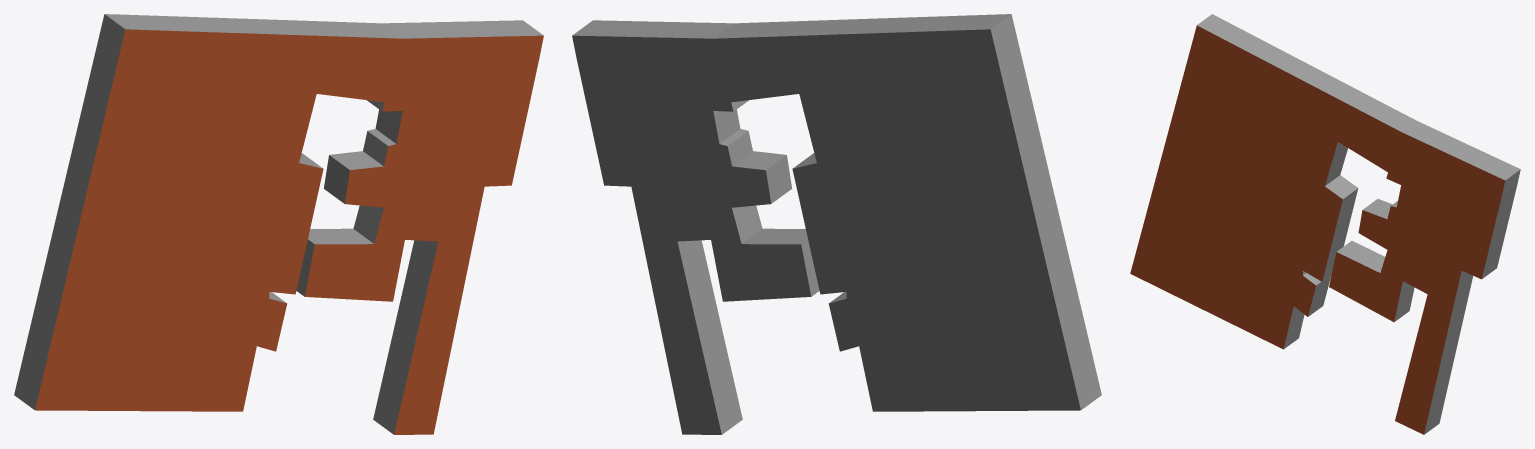
Rendered from construction_5095_assumed_A_Casa_h6m.obj.
3 renders of one model, left to right at view 1: azimuth 30°, elevation 25°; view 2: azimuth 150°, elevation 25°; view 3: azimuth 330°, elevation 25°, orthographic. The views are drawn at different scales.
Visible parts, largest first — view 1: construction_5095_assumed_A_Casa; view 2: construction_5095_assumed_A_Casa; view 3: construction_5095_assumed_A_Casa.
Boxes of the visible parts, x1,y1,x2,y2 form: construction_5095_assumed_A_Casa: (14, 14, 543, 434); construction_5095_assumed_A_Casa: (572, 14, 1101, 434); construction_5095_assumed_A_Casa: (1130, 14, 1520, 434).
Size of the model in its own units: 84.08 by 75.87 by 6.
